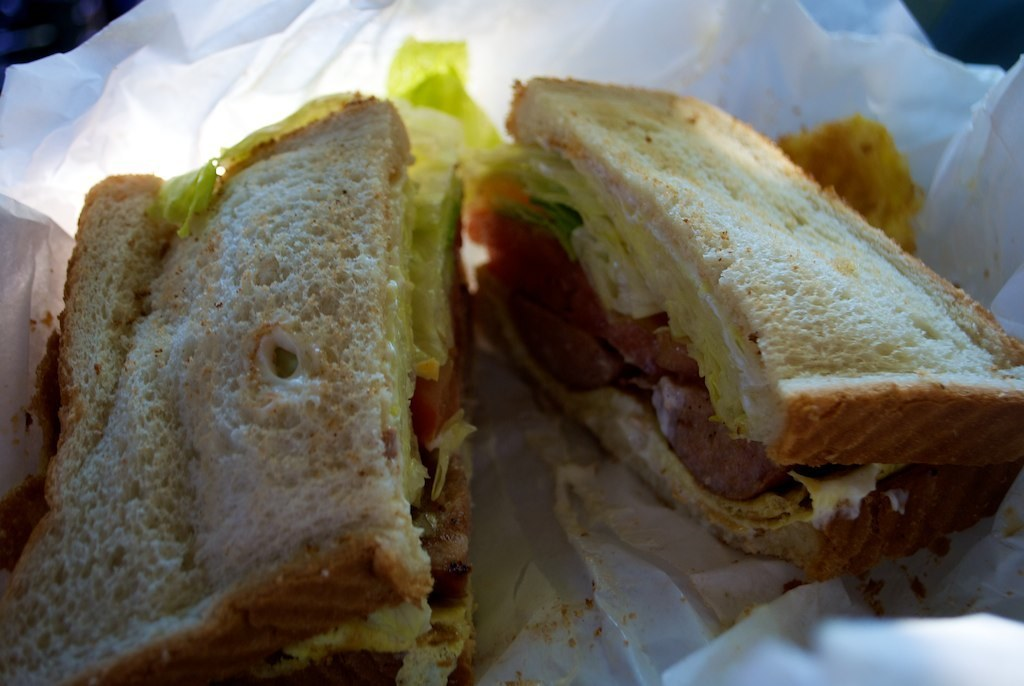sandwich: (467, 72, 1023, 585), (0, 94, 477, 685)
